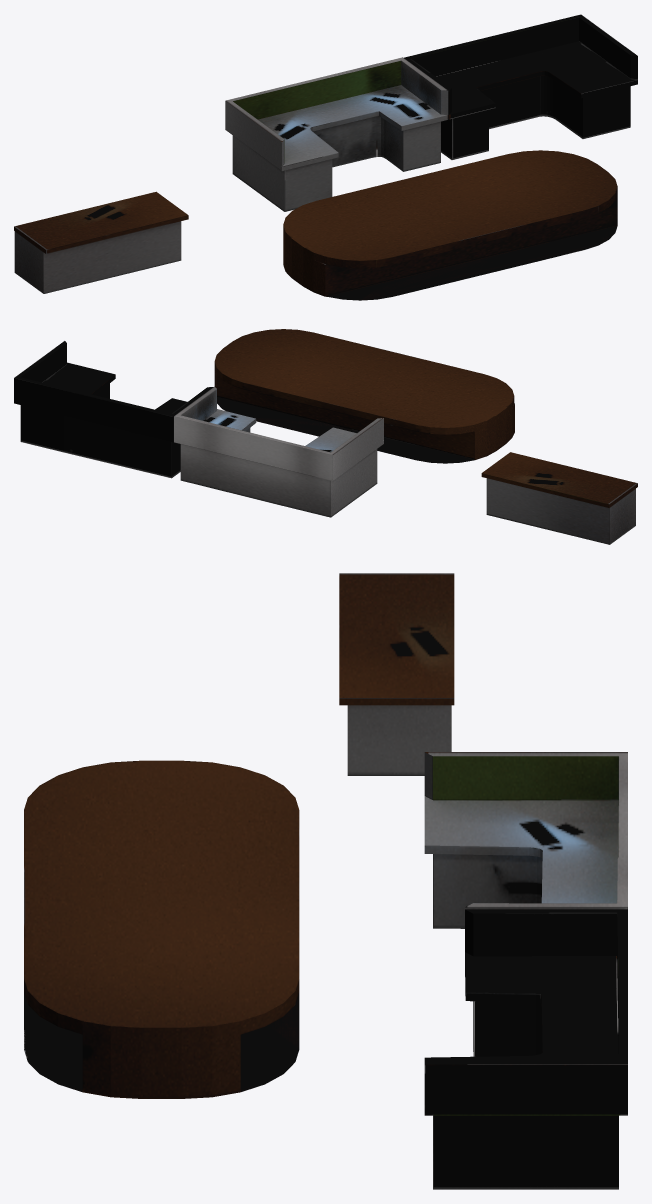
The model's file is tables_main.glb.
The picture shows the model from 3 angles, top to bottom: view 1: azimuth 30°, elevation 25°; view 2: azimuth 150°, elevation 25°; view 3: azimuth 270°, elevation 25°; orthographic projection. The views are drawn at different scales.
Visible parts, largest first — view 1: Cube; view 2: Cube; view 3: Cube.
Part boxes in pixels (left/top/right/bottom): Cube: left=14, top=14, right=637, bottom=300; Cube: left=14, top=329, right=637, bottom=544; Cube: left=24, top=573, right=627, bottom=1189.
Size of the model in its own units: 18.77 by 2.12 by 8.9.
1 material, 1 textured.
